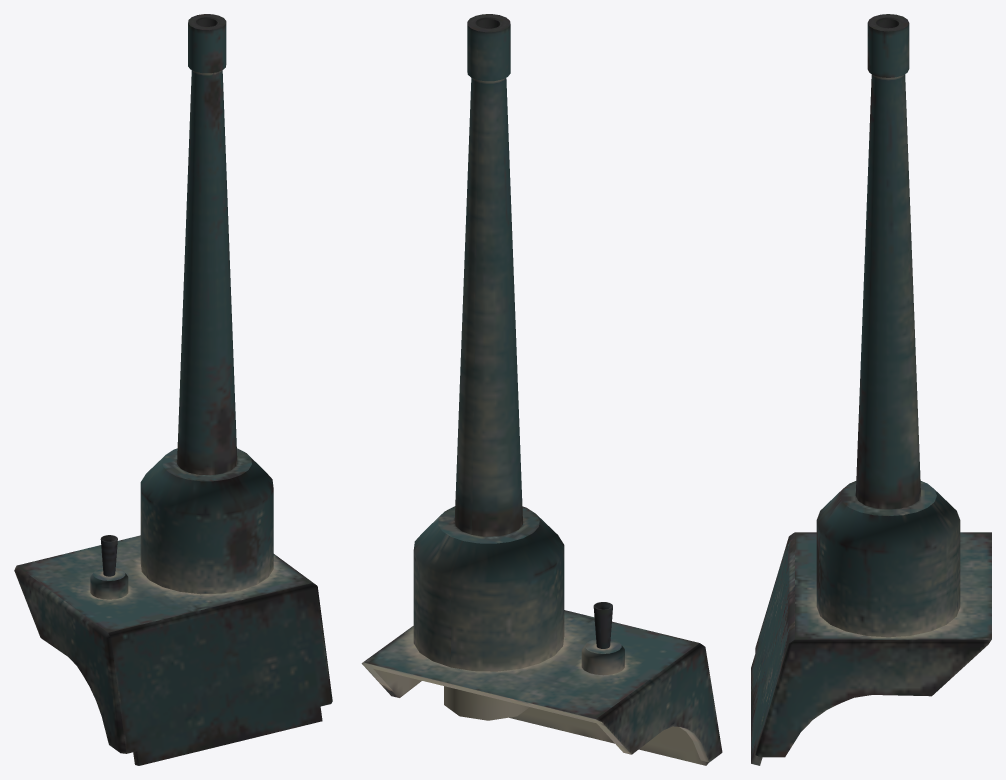
File: Gun_04.glb
3 renders of one model, left to right at view 1: azimuth 30°, elevation 25°; view 2: azimuth 150°, elevation 25°; view 3: azimuth 270°, elevation 25°, orthographic. The views are drawn at different scales.
Visible parts, largest first — view 1: set_0_group_0; view 2: set_0_group_0; view 3: set_0_group_0.
Boxes of the visible parts, x1,y1,x2,y2 form: set_0_group_0: (14,14,332,765); set_0_group_0: (361,14,722,765); set_0_group_0: (751,14,991,765).
Bounding box in the file's own units: 0.5611 × 1.69 × 0.5135.
Materials: 1 (1 with a texture image).
